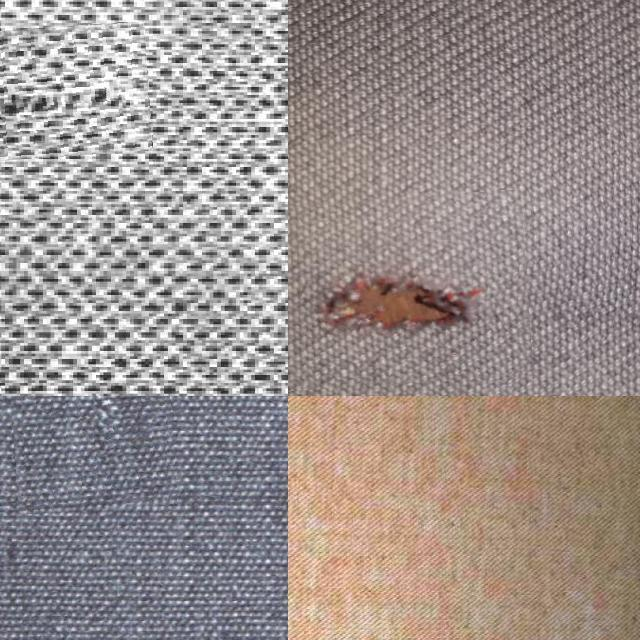Thread_other: (0, 26, 151, 168), (0, 396, 169, 511)
seam: (288, 192, 530, 386)
